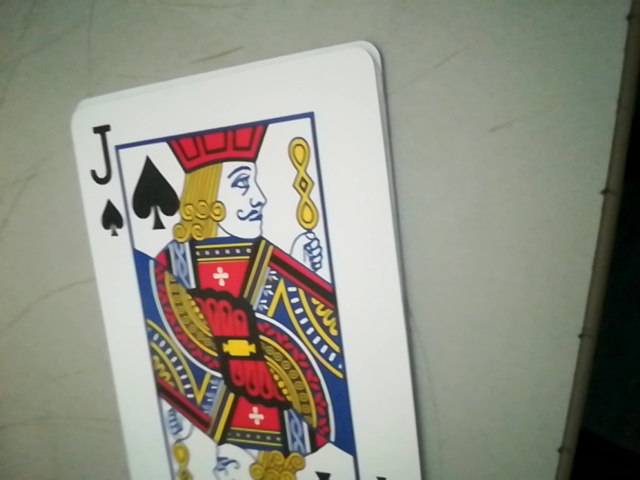ht j: (77, 122, 142, 243)
